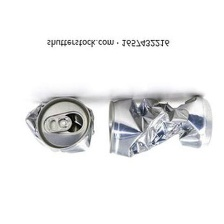can: (102, 92, 215, 159), (23, 90, 96, 157)
